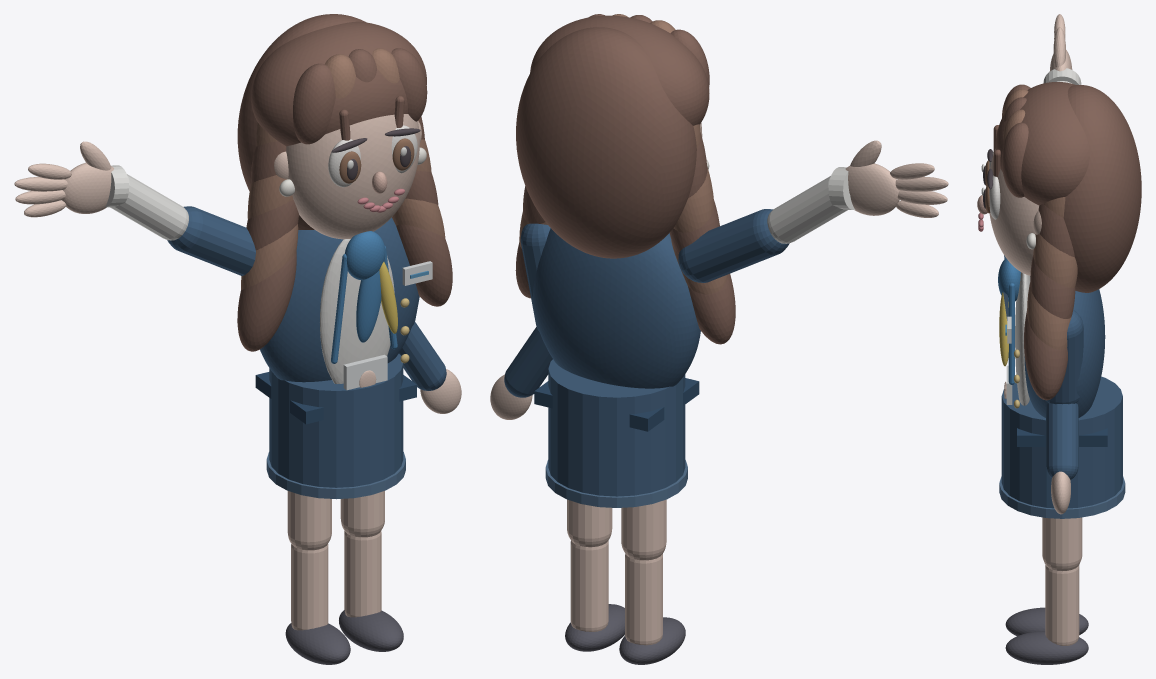
The model's file is character.glb.
3 views of the same model, side by side, from view 1: azimuth 30°, elevation 25°; view 2: azimuth 150°, elevation 25°; view 3: azimuth 270°, elevation 25° (orthographic). The views are drawn at different scales.
Visible parts, largest first — view 1: Skirt, HairCap, Face, Torso, ShirtFront, WaveUpperArm, LeftHairWave6, RightCalf, LeftCalf, HairBack, Bangs1, RightHairWave6 (+25 smaller); view 2: HairBack, Torso, Skirt, HairCap, WaveUpperArm, RightCalf, LeftCalf, WaveForearm, LeftThigh, WavePalm, LeftHairWave6, RestForearm (+10 smaller); view 3: HairBack, Skirt, HairCap, Torso, Face, RightCalf, RestForearm, RightHairWave6, RightThigh, RightShoe, RestUpperArm, RightHairWave4 (+17 smaller).
Part boxes in pixels (left/top/right/bottom): Skirt: left=269, top=353, right=403, bottom=487; HairCap: left=251, top=21, right=426, bottom=146; Face: left=286, top=114, right=419, bottom=239; Torso: left=260, top=217, right=418, bottom=382; ShirtFront: left=320, top=239, right=394, bottom=383; WaveUpperArm: left=167, top=206, right=255, bottom=275; LeftHairWave6: left=237, top=251, right=296, bottom=351; RightCalf: left=344, top=531, right=381, bottom=617; LeftCalf: left=291, top=544, right=328, bottom=630; HairBack: left=237, top=14, right=365, bottom=229; Bangs1: left=293, top=63, right=335, bottom=144; RightHairWave6: left=396, top=224, right=452, bottom=306; HairBack: left=516, top=27, right=696, bottom=258; Torso: left=532, top=228, right=700, bottom=388; Skirt: left=548, top=359, right=685, bottom=496; HairCap: left=530, top=15, right=709, bottom=125; WaveUpperArm: left=678, top=209, right=789, bottom=282; RightCalf: left=570, top=540, right=608, bottom=631; LeftCalf: left=625, top=554, right=662, bottom=645; WaveForearm: left=767, top=176, right=850, bottom=243; LeftThigh: left=621, top=499, right=666, bottom=560; WavePalm: left=845, top=163, right=899, bottom=215; LeftHairWave6: left=688, top=274, right=735, bottom=344; RestForearm: left=504, top=327, right=552, bottom=397; HairBack: left=1063, top=85, right=1141, bottom=292; Skirt: left=1001, top=376, right=1122, bottom=508; HairCap: left=995, top=82, right=1089, bottom=205; Torso: left=1024, top=289, right=1105, bottom=417; Face: left=989, top=149, right=1038, bottom=275; RightCalf: left=1045, top=565, right=1079, bottom=645; RestForearm: left=1046, top=403, right=1078, bottom=479; RightHairWave6: left=1024, top=311, right=1067, bottom=400; RightThigh: left=1042, top=517, right=1082, bottom=571; RightShoe: left=1005, top=631, right=1088, bottom=664; RestUpperArm: left=1046, top=310, right=1083, bottom=404; RightHairWave4: left=1030, top=255, right=1075, bottom=318.
Size of the model in its own units: 3.7 by 4.89 by 1.31.
